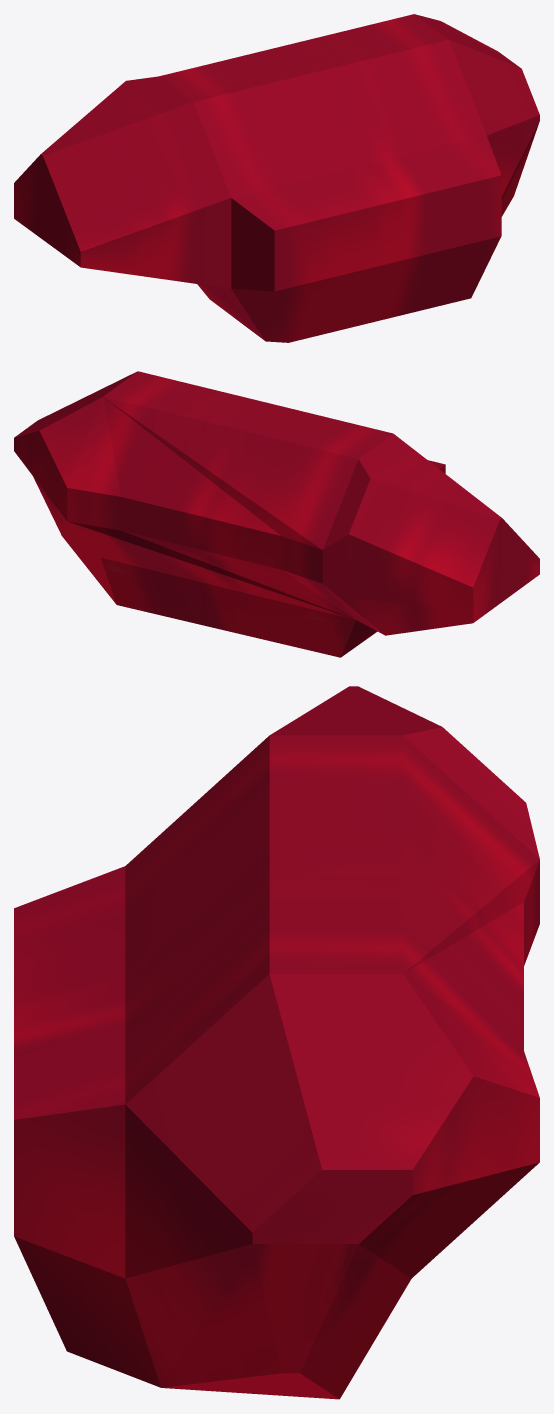
Rendered from gib1.FBX.
3 views of the same model, one above another, from view 1: azimuth 30°, elevation 25°; view 2: azimuth 150°, elevation 25°; view 3: azimuth 270°, elevation 25° (orthographic). The views are drawn at different scales.
Visible parts, largest first — view 1: Box001; view 2: Box001; view 3: Box001.
Part boxes in pixels (x1=…): Box001: x1=14, y1=14, x2=539, y2=342; Box001: x1=14, y1=371, x2=539, y2=657; Box001: x1=14, y1=686, x2=539, y2=1399.
Size of the model in its own units: 20.78 by 9.49 by 10.49.
Materials: 1 (1 with a texture image).
